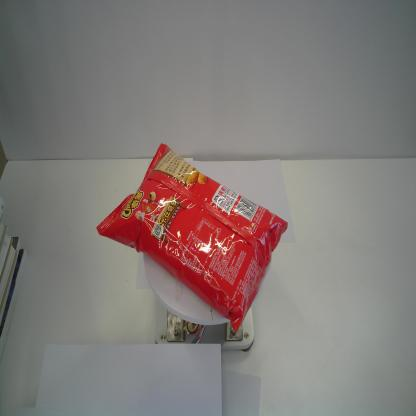Puffed Food: (95, 142, 290, 333)
